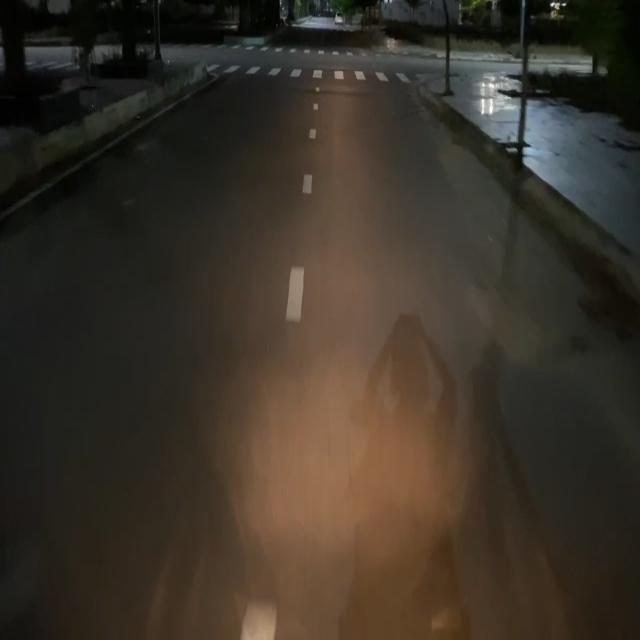walk-crossing: (202, 63, 424, 88), (231, 40, 382, 60)
